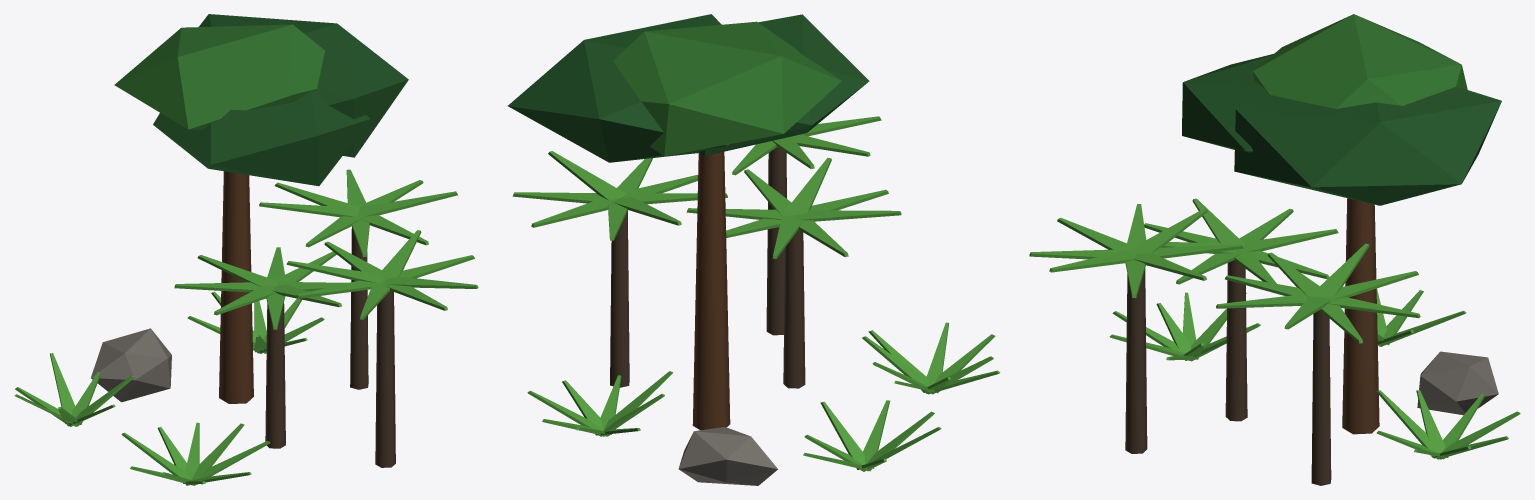
Rendered from sawyer_fern_gully_a.glb.
3 views of the same model, side by side, from view 1: azimuth 30°, elevation 25°; view 2: azimuth 150°, elevation 25°; view 3: azimuth 270°, elevation 25° (orthographic). The views are drawn at different scales.
Visible parts, largest first — view 1: broadleaf_5_crown0, broadleaf_5_crown2, broadleaf_5_crown1, broadleaf_5_trunk, rock_6_rock, treefern_1_trunk, treefern_0_trunk, treefern_2_trunk, treefern_2_frond0, treefern_2_frond4, treefern_1_frond4, treefern_0_frond1 (+17 smaller); view 2: broadleaf_5_crown0, broadleaf_5_crown1, broadleaf_5_trunk, broadleaf_5_crown2, rock_6_rock, treefern_0_trunk, treefern_2_trunk, treefern_1_trunk, treefern_2_frond0, treefern_0_frond5, treefern_0_frond3, treefern_2_frond2 (+24 smaller); view 3: broadleaf_5_crown1, broadleaf_5_crown0, broadleaf_5_trunk, broadleaf_5_crown2, rock_6_rock, treefern_1_trunk, treefern_2_trunk, treefern_0_trunk, treefern_1_frond4, treefern_2_frond4, treefern_0_frond1, treefern_2_frond3 (+21 smaller).
Part boxes in pixels (box(x1,y1,x2,y2)): broadleaf_5_crown0: box(114, 24, 324, 130); broadleaf_5_crown2: box(153, 91, 370, 186); broadleaf_5_crown1: box(199, 14, 408, 157); broadleaf_5_trunk: box(219, 171, 253, 403); rock_6_rock: box(91, 328, 171, 402); treefern_1_trunk: box(375, 290, 395, 467); treefern_0_trunk: box(265, 303, 285, 448); treefern_2_trunk: box(350, 227, 368, 389); treefern_2_frond0: box(359, 191, 457, 216); treefern_2_frond4: box(259, 202, 359, 217); treefern_1_frond4: box(286, 261, 385, 283); treefern_0_frond1: box(197, 255, 279, 286); broadleaf_5_crown0: box(613, 21, 841, 156); broadleaf_5_crown1: box(508, 14, 729, 162); broadleaf_5_trunk: box(692, 152, 730, 430); broadleaf_5_crown2: box(699, 14, 869, 155); rock_6_rock: box(678, 427, 777, 485); treefern_0_trunk: box(783, 229, 805, 388); treefern_2_trunk: box(610, 211, 629, 387); treefern_1_trunk: box(766, 147, 786, 335); treefern_2_frond0: box(548, 151, 626, 200); treefern_0_frond5: box(785, 157, 831, 215); treefern_0_frond3: box(794, 210, 901, 221); treefern_2_frond2: box(531, 197, 607, 227); broadleaf_5_crown1: box(1234, 86, 1501, 205); broadleaf_5_crown0: box(1253, 14, 1467, 108); broadleaf_5_trunk: box(1342, 198, 1379, 434); broadleaf_5_crown2: box(1182, 54, 1275, 152); rock_6_rock: box(1417, 351, 1498, 415); treefern_1_trunk: box(1125, 268, 1147, 453); treefern_2_trunk: box(1311, 310, 1331, 485); treefern_0_trunk: box(1225, 260, 1247, 421); treefern_1_frond4: box(1131, 208, 1207, 253); treefern_2_frond4: box(1313, 243, 1369, 297); treefern_0_frond1: box(1238, 229, 1338, 252); treefern_2_frond3: box(1323, 271, 1418, 300).
Size of the model in its own units: 4.52 by 3.94 by 4.46.
